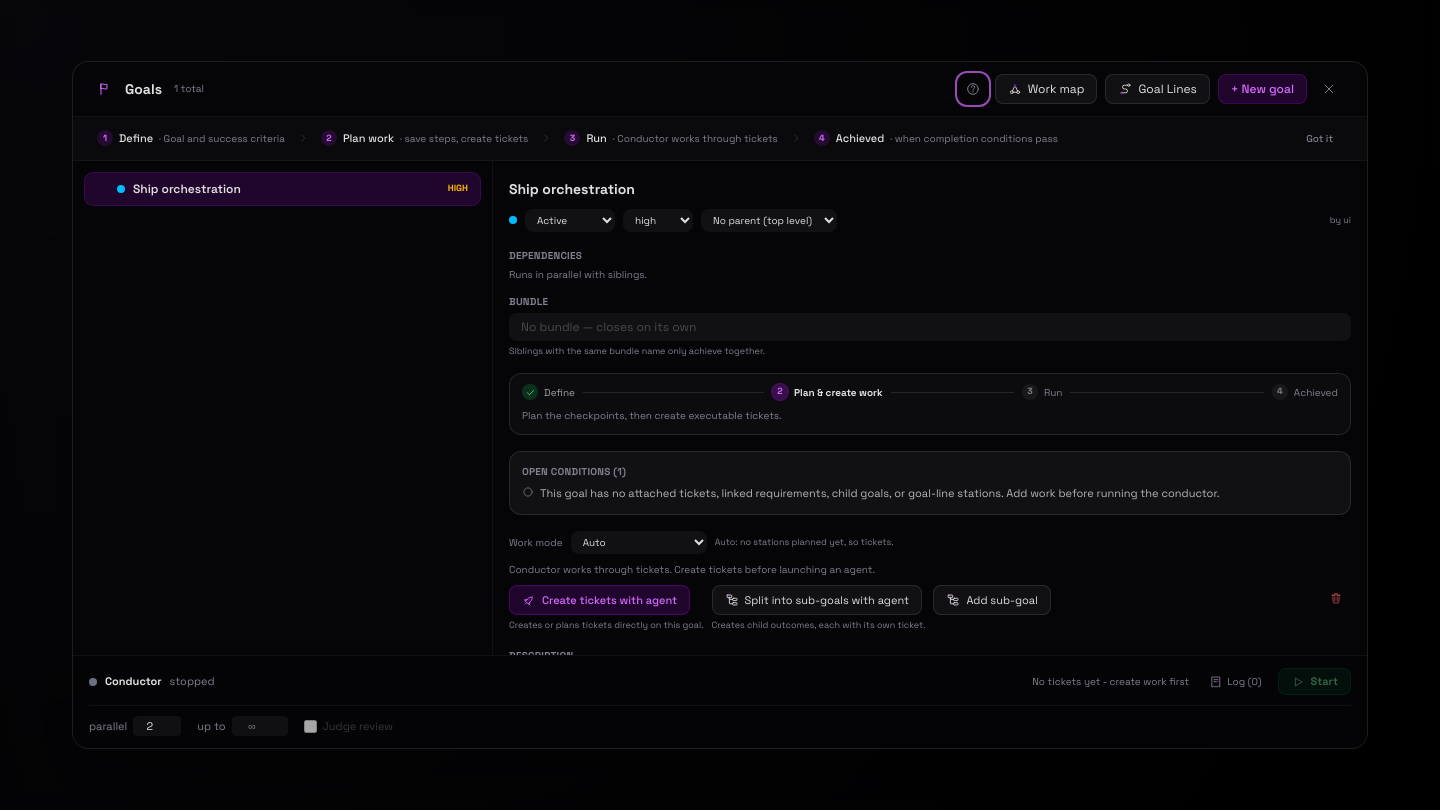
GoalsModal › deleting a goal › asks before deleting and deletes nothing while it asks
The width and height of the screenshot is (1440, 810).
Step 1. Click the button with test id "goal-delete-btn" → (1336, 598), box x1=1321 y1=585 x2=1351 y2=611
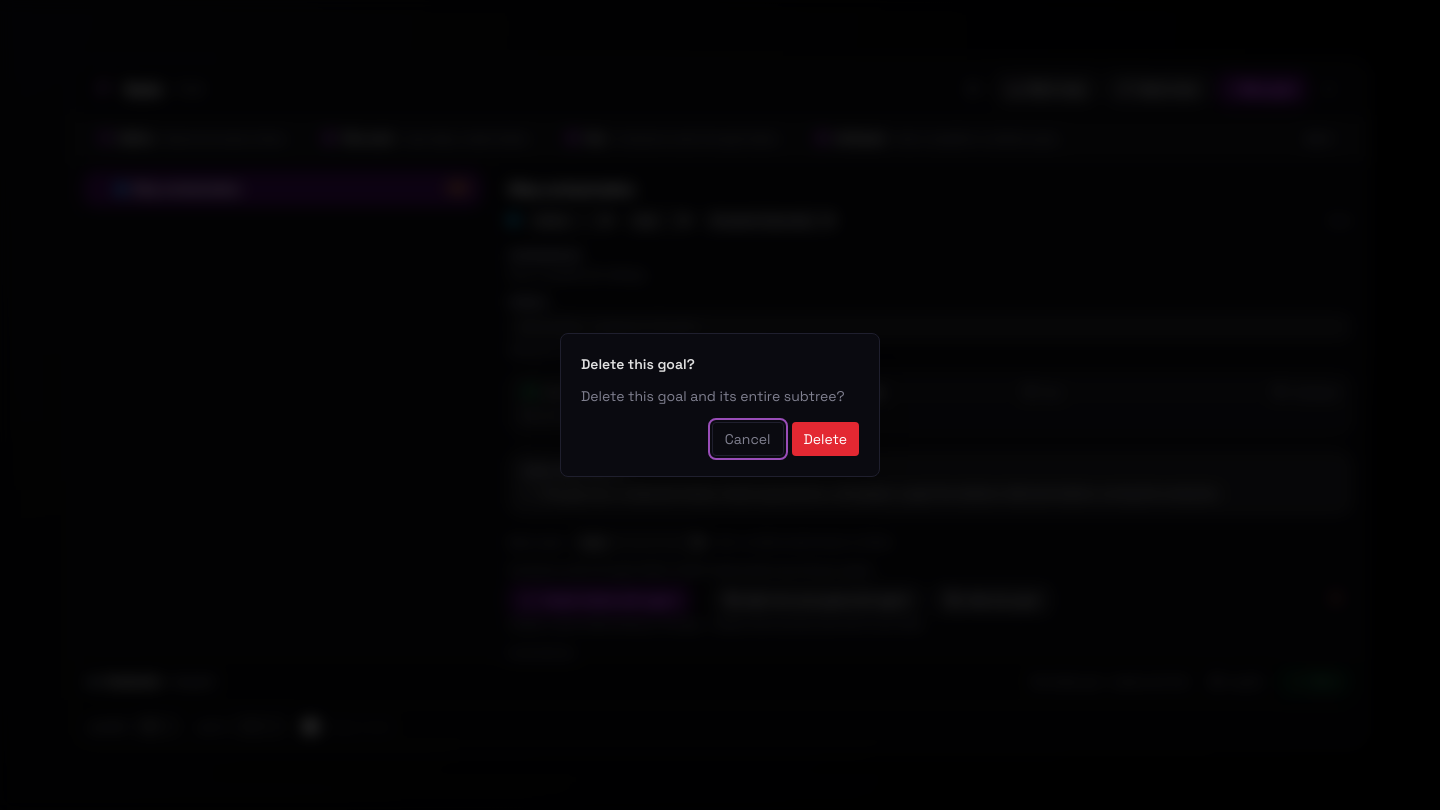
Check: the dialog "Delete this goal?" shows "entire subtree", box x1=581 y1=387 x2=845 y2=405
